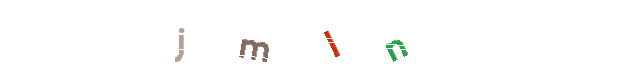J: (205, 0, 285, 80)
L: (291, 0, 371, 80)
M: (270, 0, 350, 80)
N: (355, 0, 435, 80)
